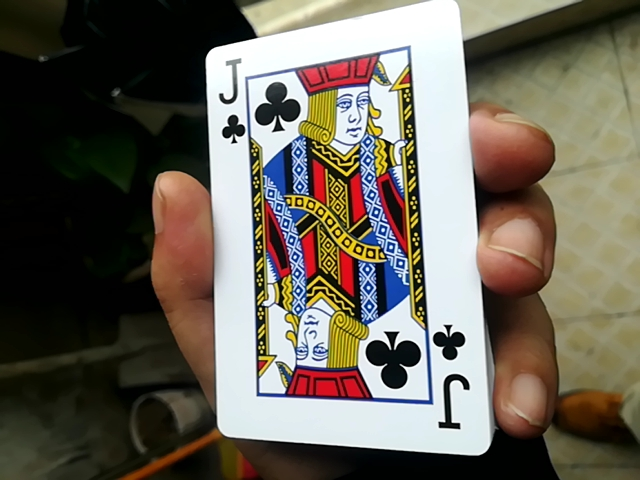mh j: (195, 2, 483, 439)
